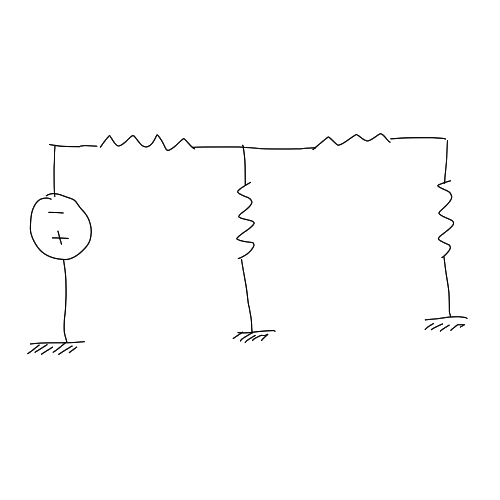dcvs: (27, 192, 96, 260)
gnd: (24, 337, 96, 358), (418, 313, 479, 333), (224, 328, 285, 344)
res: (90, 132, 202, 157), (232, 175, 262, 267), (433, 176, 462, 266), (304, 131, 397, 155)
